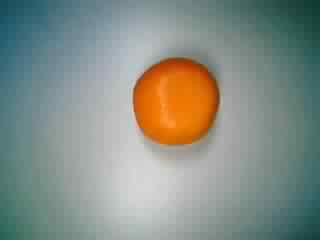orange: (121, 52, 223, 148)
